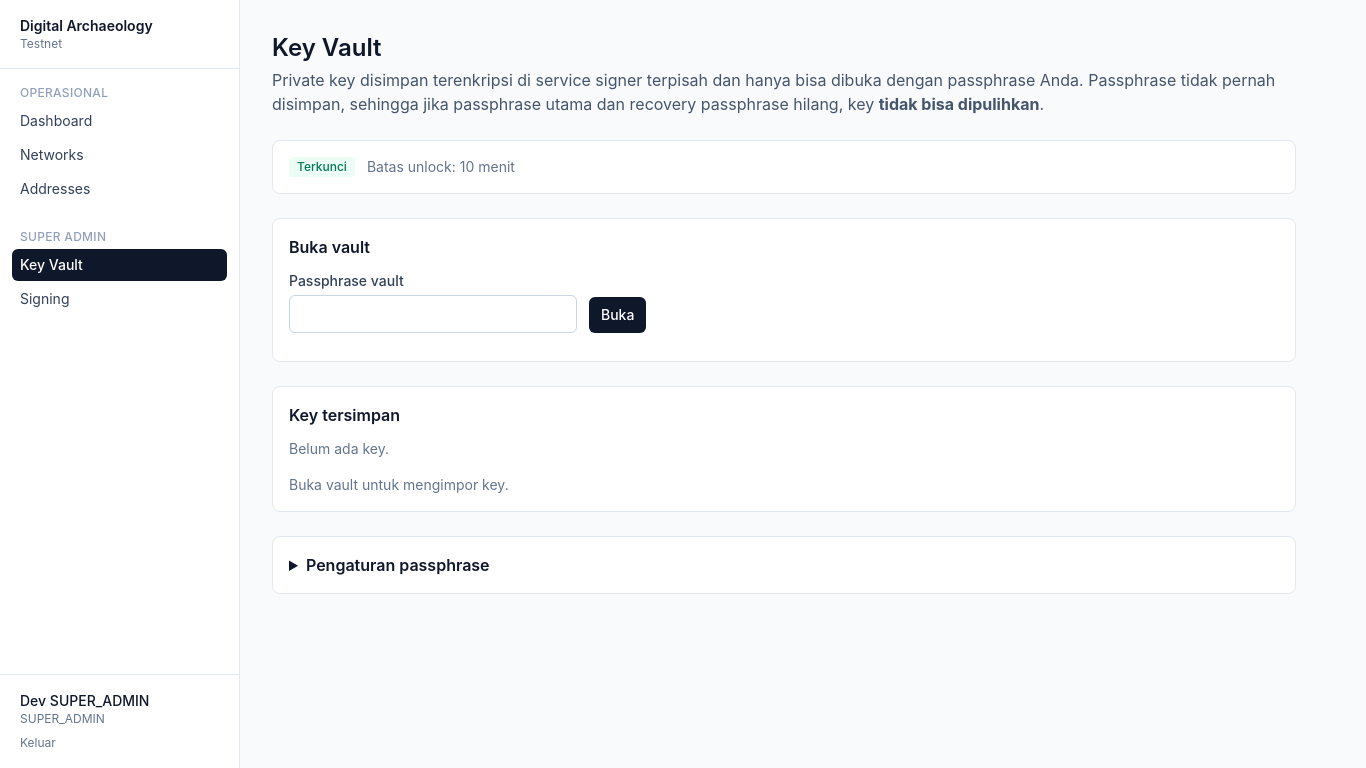
Test: Key Vault page › asks for re-authentication when required, then retries the action
Type "marble orbit cactus lantern" into the password field labelled "Passphrase vault" at (433, 314), box left=289, top=295, right=577, bottom=333
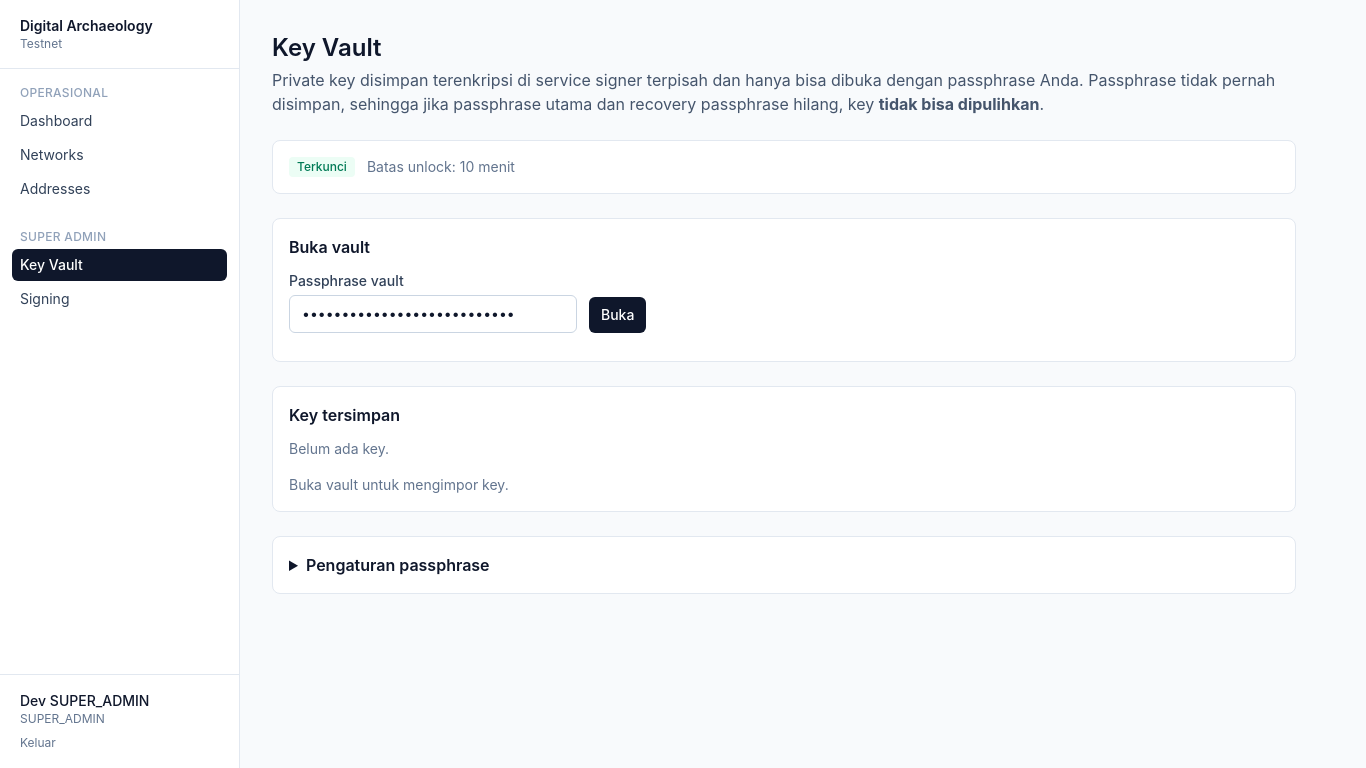
Click the button "Buka" at (618, 315), box left=589, top=297, right=646, bottom=333
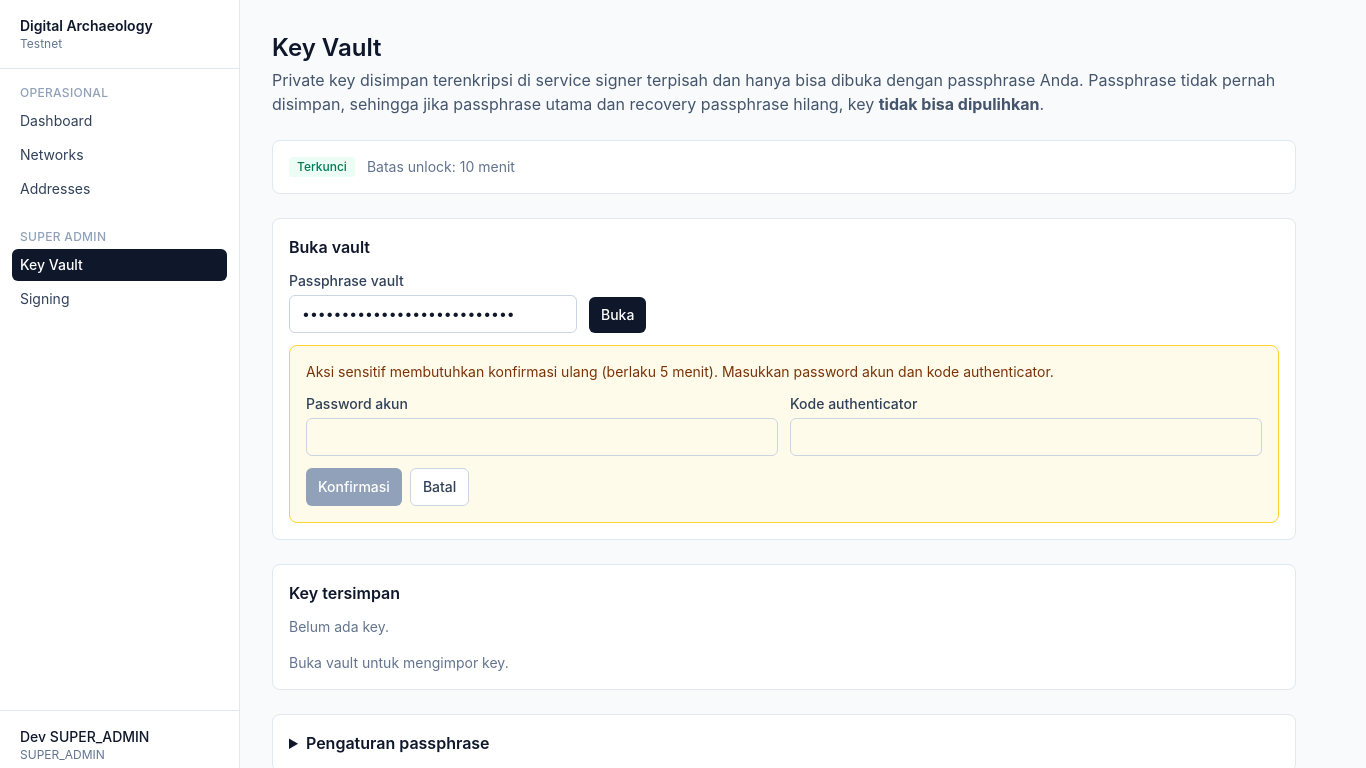
Type "account password" into the password field labelled "Password akun" at (542, 437), box left=306, top=418, right=778, bottom=456
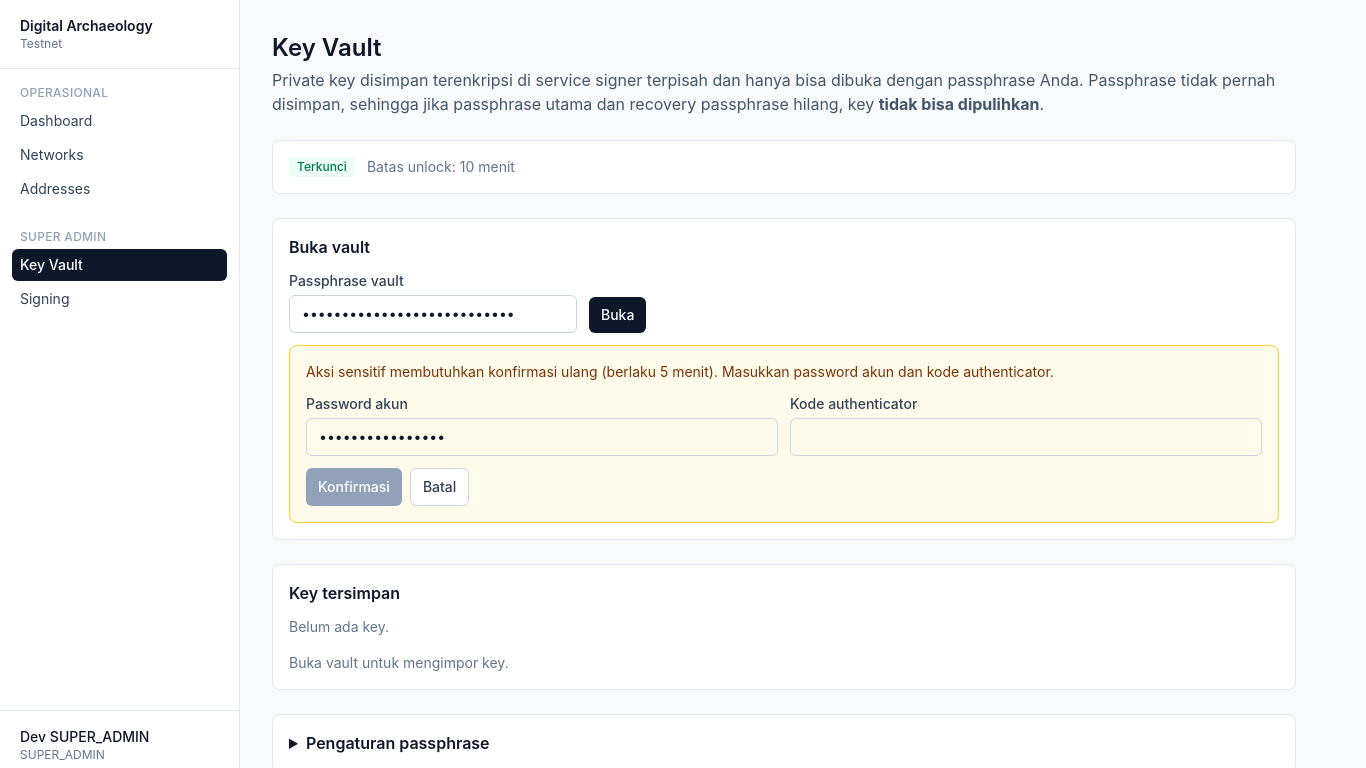
Type "123456" into the field labelled "Kode authenticator" at (1026, 437), box left=790, top=418, right=1262, bottom=456
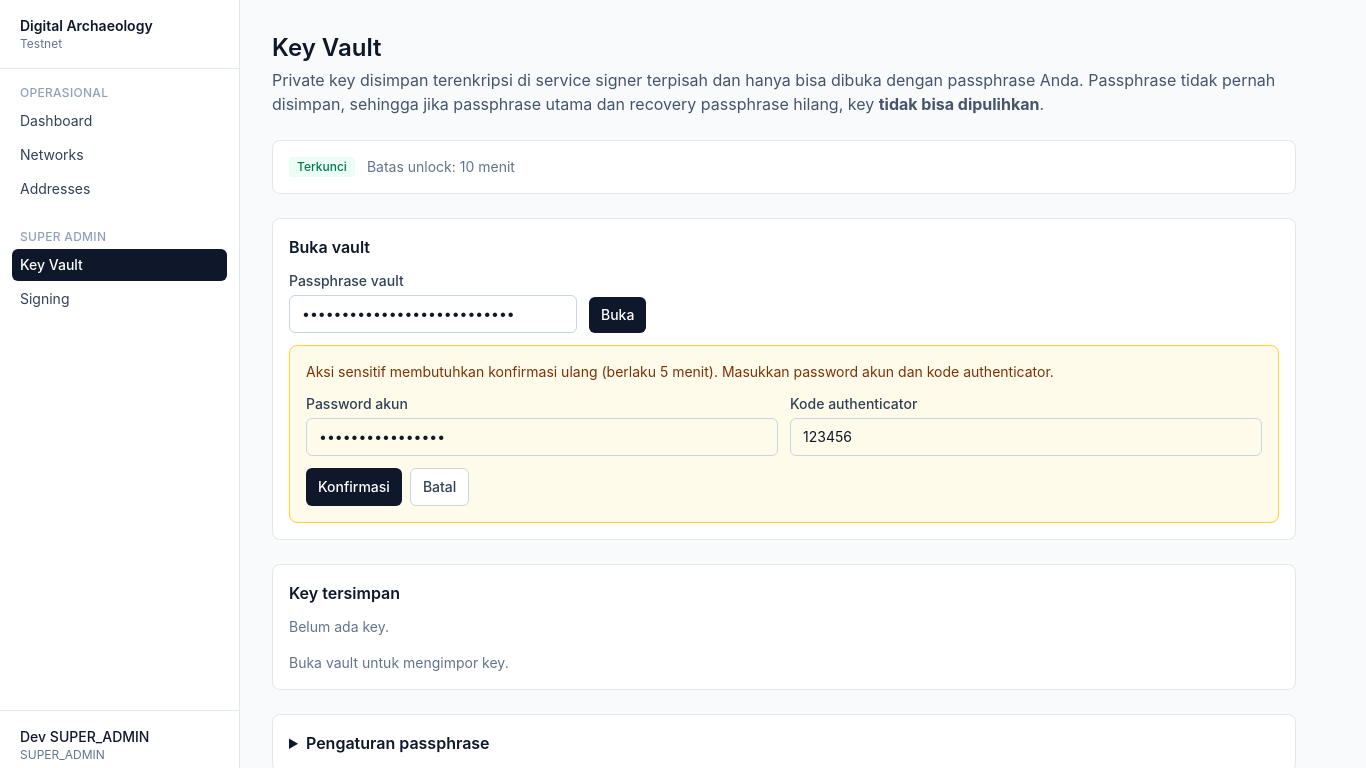
Click the button "Konfirmasi" at (354, 487), box left=306, top=468, right=402, bottom=506
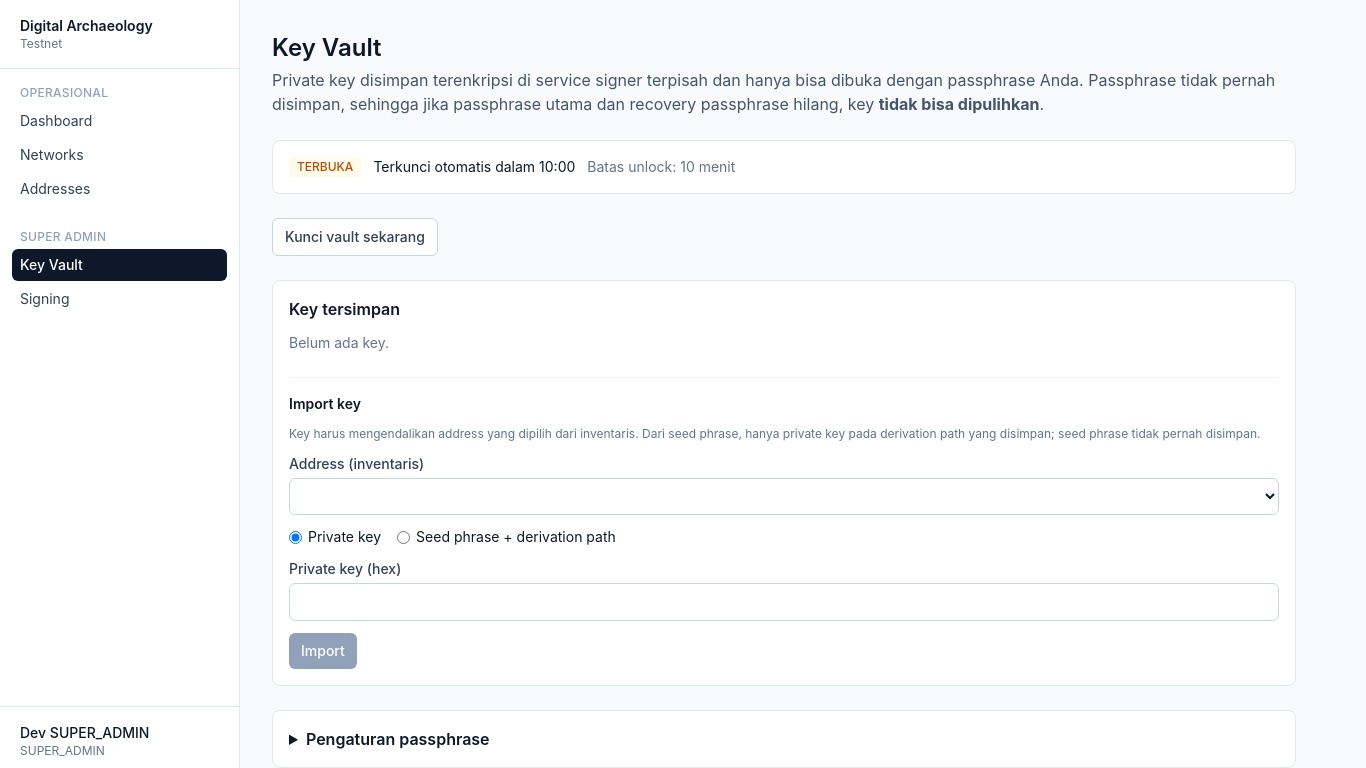
Result: the text "TERBUKA" is shown at left=289, top=157, right=361, bottom=177
